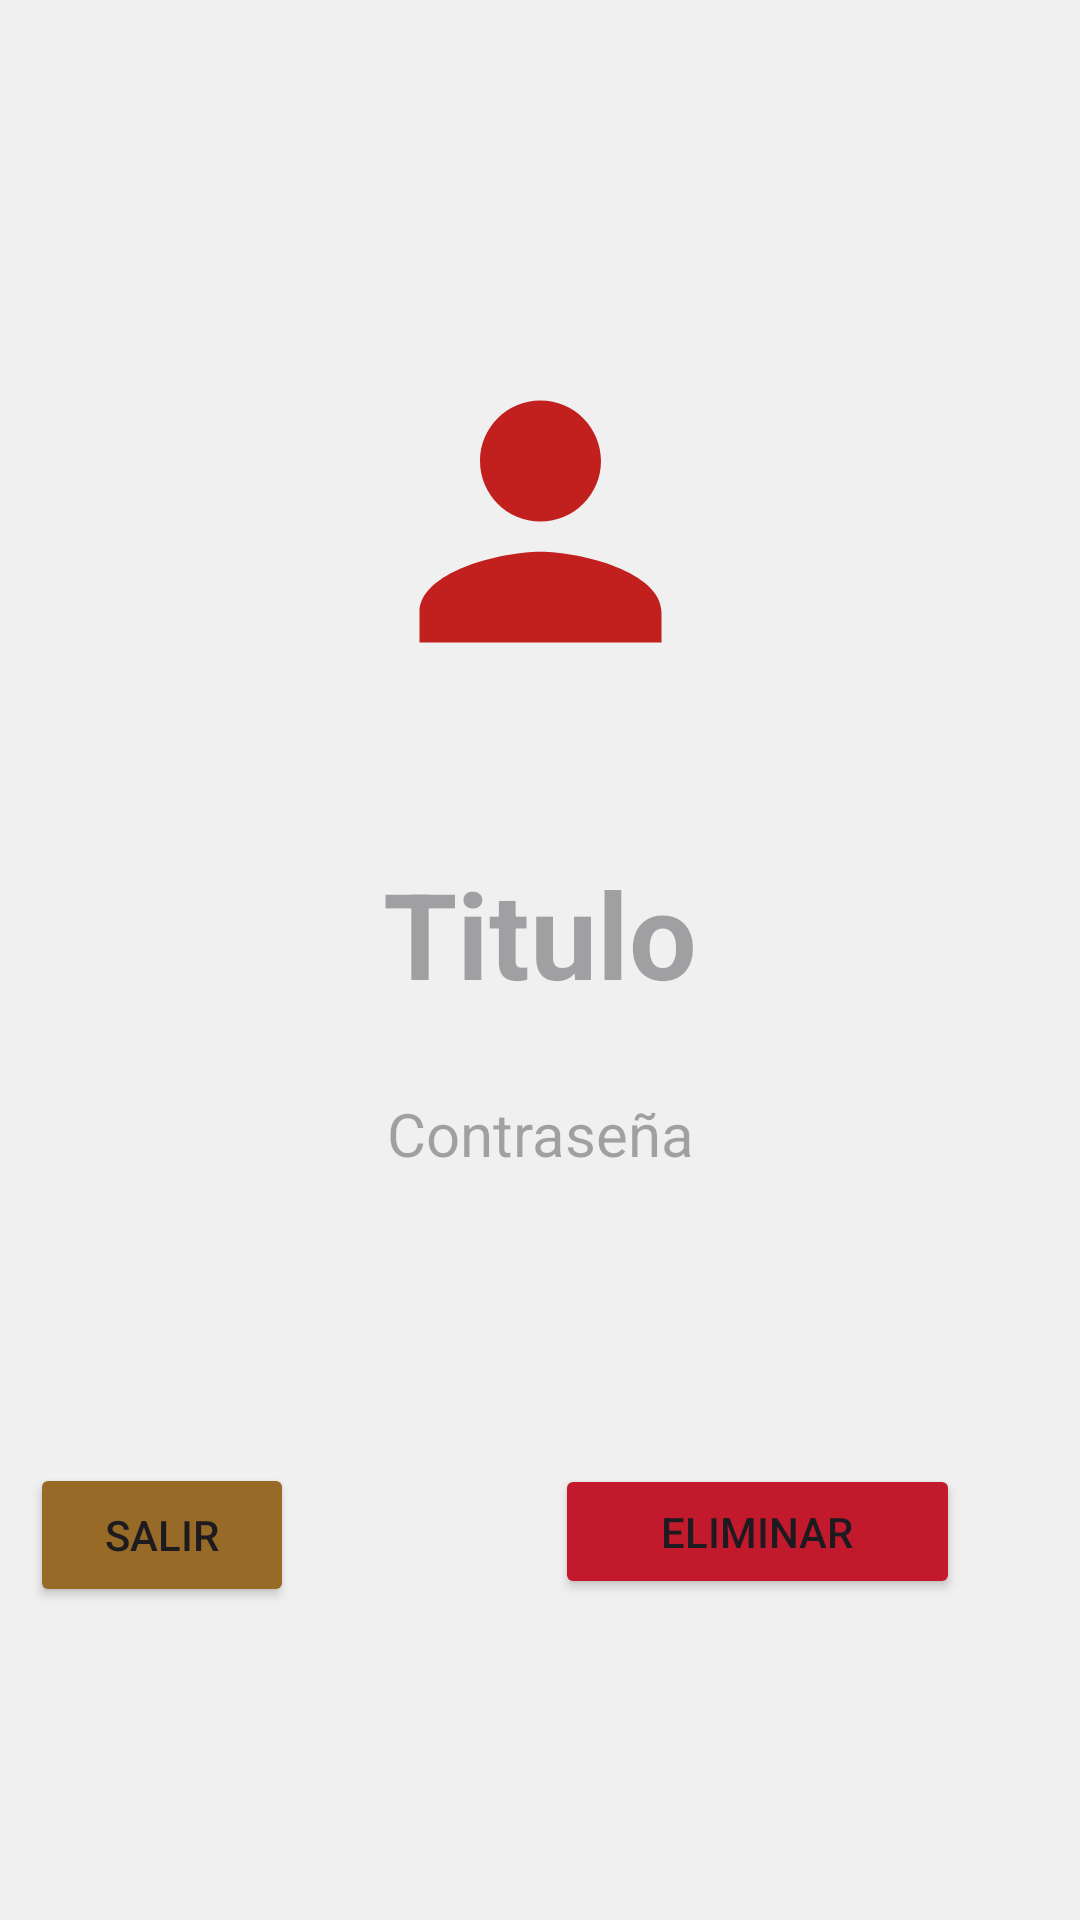

Named icons in this screenshot (1080w x 1920h) and their centers, point (x, y):
person: point (540, 521)
